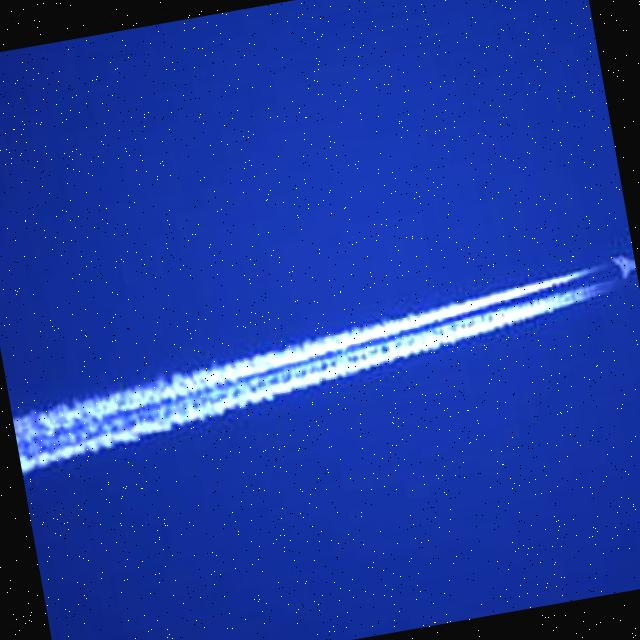Ct: (1, 176, 640, 552)
